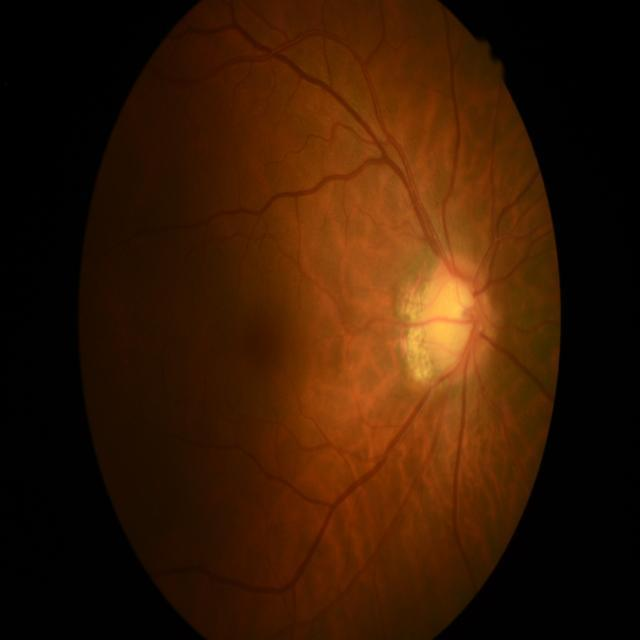cup: (435, 275, 475, 367)
disk: (420, 254, 490, 378)
